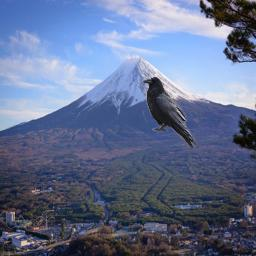Crow: (142, 76, 198, 149)
